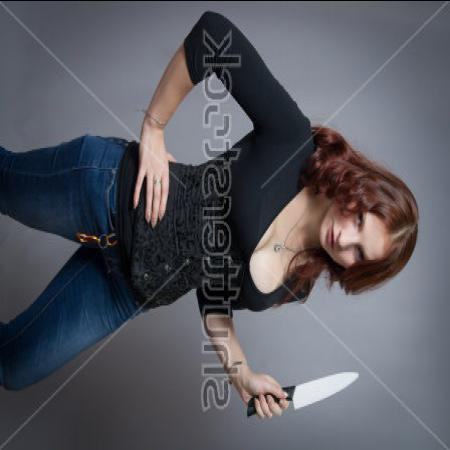long weapon: (258, 359, 366, 433)
